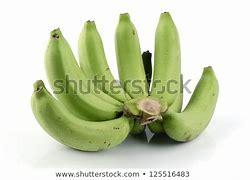banana: (33, 10, 224, 146), (47, 32, 128, 110), (28, 87, 129, 144), (163, 76, 234, 146), (146, 10, 184, 112), (74, 14, 126, 88), (112, 10, 148, 94)
